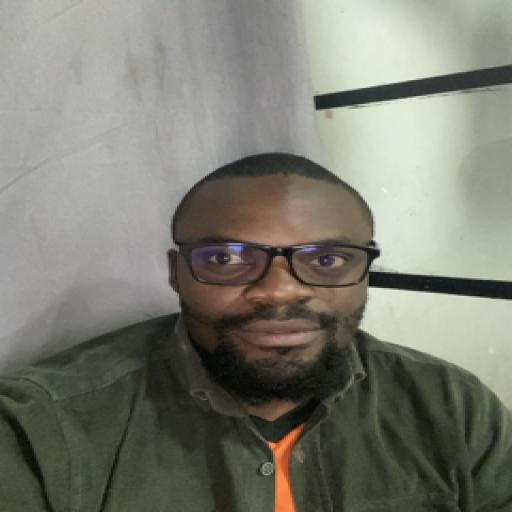JEANLUC: (156, 140, 390, 406)
